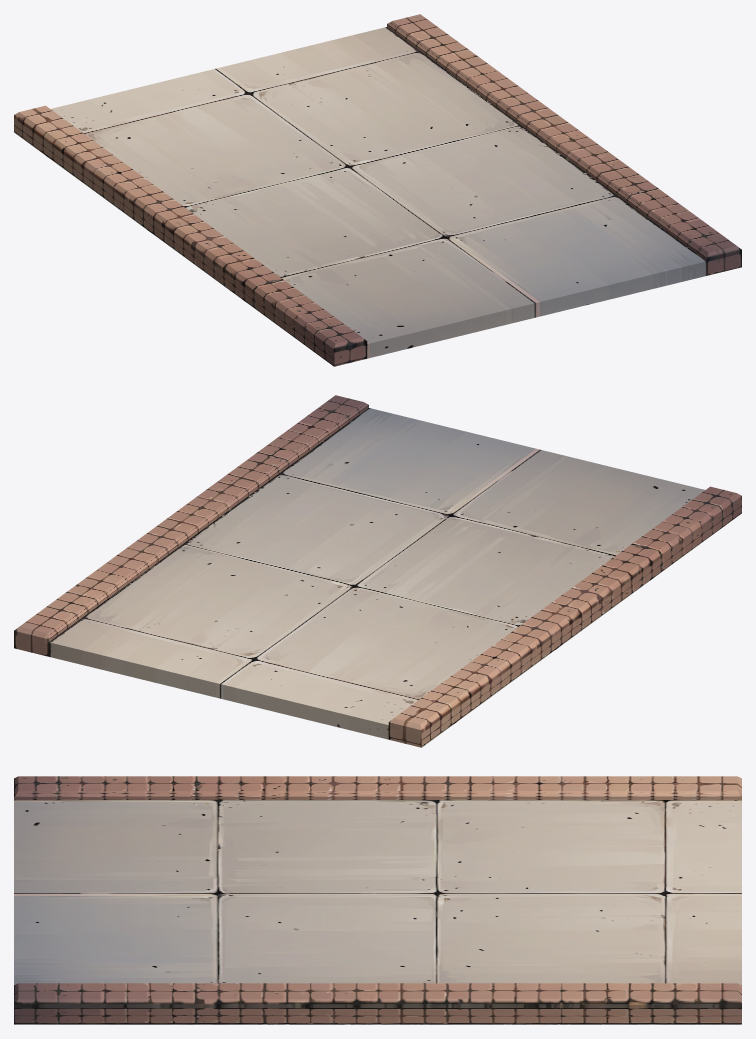
The model's file is Sidewalk.fbx.
The picture shows the model from 3 angles, top to bottom: view 1: azimuth 30°, elevation 25°; view 2: azimuth 150°, elevation 25°; view 3: azimuth 270°, elevation 25°; orthographic projection. The views are drawn at different scales.
Parts seen in each view (by area): view 1: report45943284082943370519bf42584-4abe-49aa-92b6-3b791f93273; view 2: report45943284082943370519bf42584-4abe-49aa-92b6-3b791f93273; view 3: report45943284082943370519bf42584-4abe-49aa-92b6-3b791f93273.
Part boxes in pixels (<box>): report45943284082943370519bf42584-4abe-49aa-92b6-3b791f93273: <box>14,14,741,366</box>; report45943284082943370519bf42584-4abe-49aa-92b6-3b791f93273: <box>14,395,741,747</box>; report45943284082943370519bf42584-4abe-49aa-92b6-3b791f93273: <box>14,776,741,1024</box>.
Bounding box in the file's own units: 73.54 × 3.61 × 100.
Materials: 1 (1 with a texture image).
